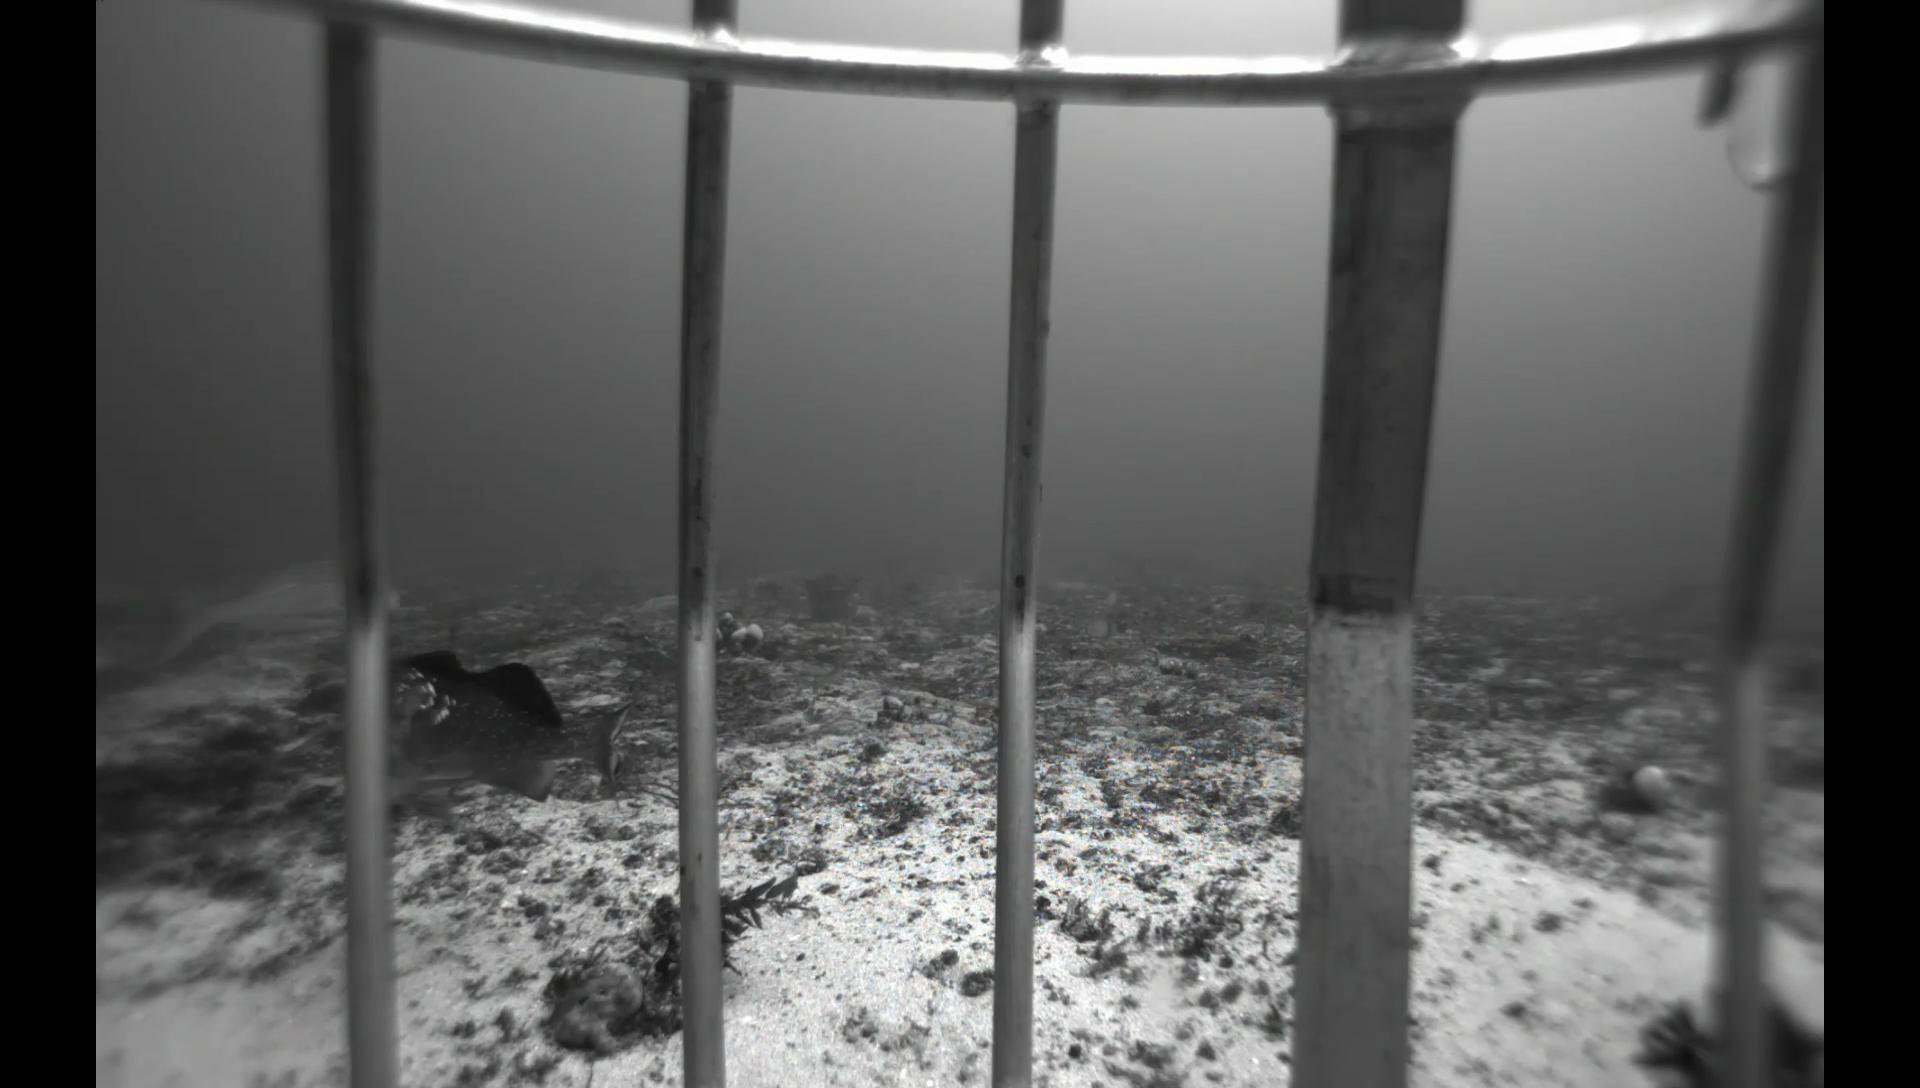CHAETODONOCELLATUS-170260307: (1076, 615, 1118, 641), (1098, 587, 1124, 611)
EPINEPHELUSMORIO-170021211: (388, 645, 636, 839)
HALICHOERESBIVITTATUS-170281202: (272, 666, 301, 687)
PAGRUSPAGRUS-170212302: (138, 547, 407, 677)
PRISTIGENYSALTA-170050401: (294, 680, 342, 717)
